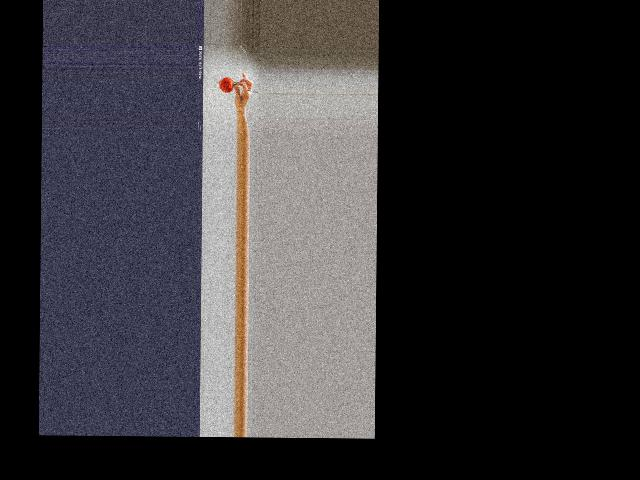tomato: (218, 78, 233, 93)
